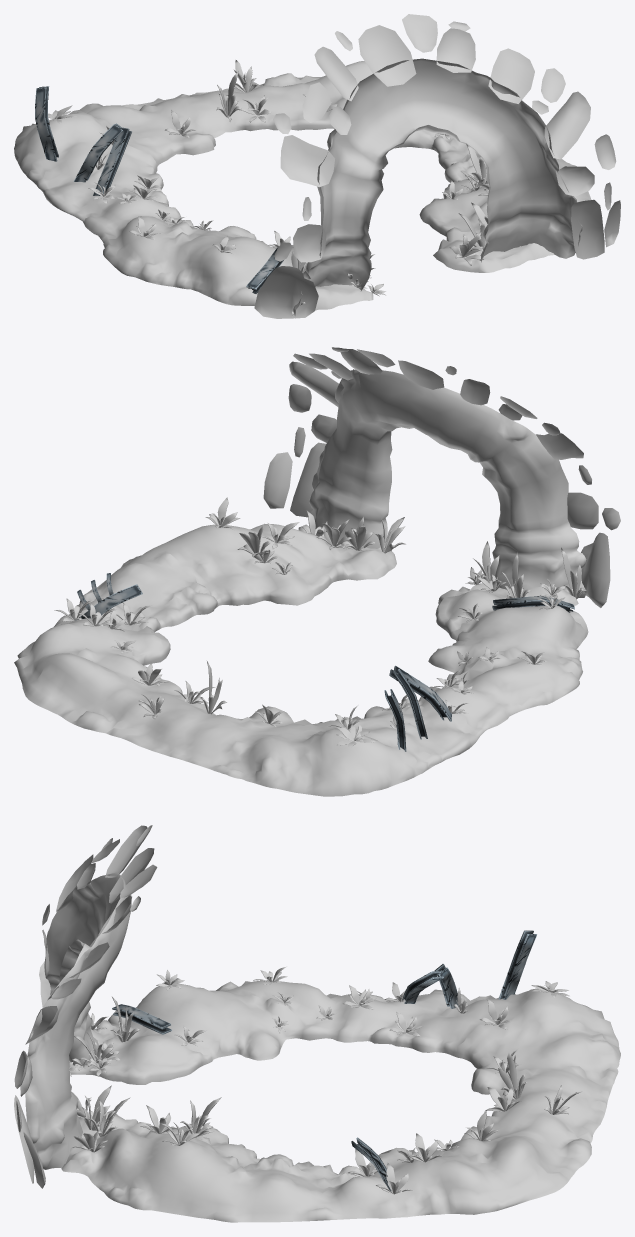
Rendered from mission_01_avril.fbx.
The picture shows the model from 3 angles, top to bottom: view 1: azimuth 30°, elevation 25°; view 2: azimuth 150°, elevation 25°; view 3: azimuth 270°, elevation 25°; orthographic projection. The views are drawn at different scales.
Visible parts, largest first — view 1: arche_grotte, map_mission_01, grassvolume, poutre; view 2: map_mission_01, arche_grotte, grassvolume, poutre; view 3: map_mission_01, arche_grotte, grassvolume, poutre.
Boxes of the visible parts, bbox=[...] form: arche_grotte: bbox=[254, 14, 620, 318]; map_mission_01: bbox=[14, 61, 591, 310]; grassvolume: bbox=[48, 60, 520, 315]; poutre: bbox=[35, 86, 283, 293]; map_mission_01: bbox=[14, 524, 588, 796]; arche_grotte: bbox=[263, 347, 620, 607]; grassvolume: bbox=[54, 497, 586, 747]; poutre: bbox=[75, 573, 574, 751]; map_mission_01: bbox=[61, 980, 620, 1222]; arche_grotte: bbox=[14, 825, 157, 1188]; grassvolume: bbox=[69, 966, 581, 1194]; poutre: bbox=[112, 930, 537, 1191].
Bounding box in the file's own units: 1151 × 582 × 1263.
